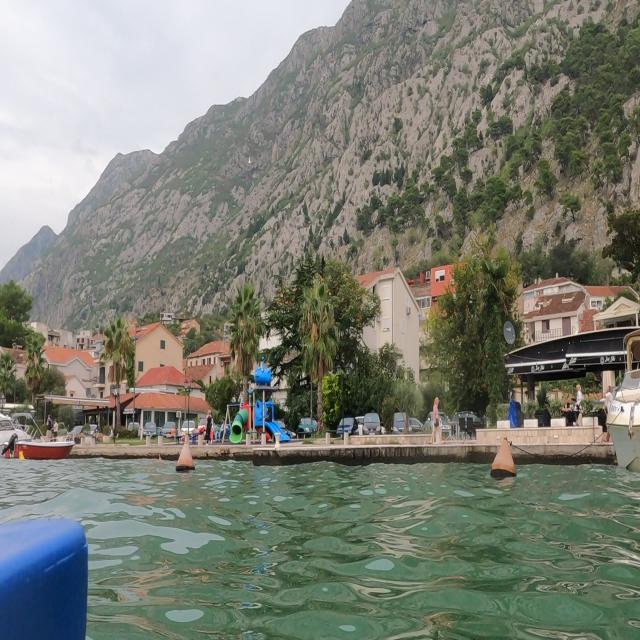buoy: (486, 429, 521, 495), (174, 427, 198, 481)
